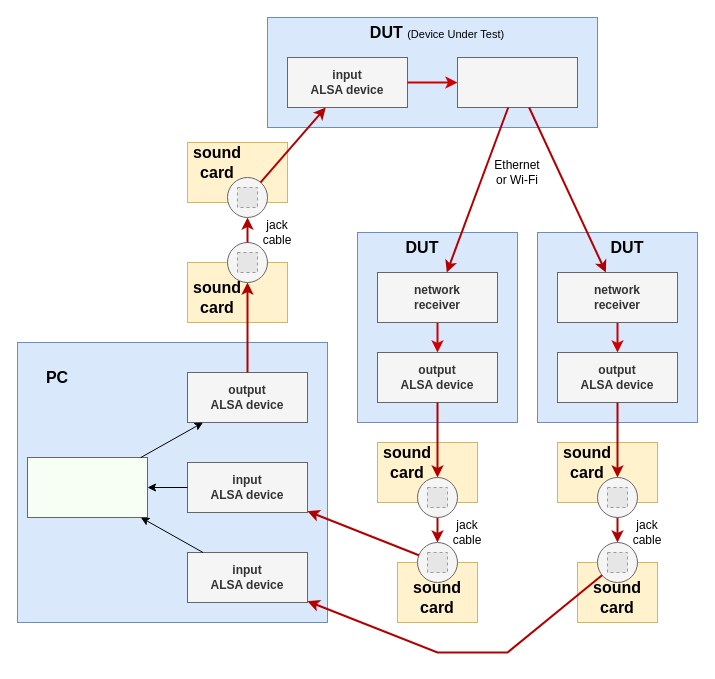
This 715x679 diagram has some shape labels left out. Grey dashed boxes stand in for pictures. Here are the shapes that lost their labels. From the top down, the box of each, then its label:
(456, 56, 578, 108): network sender
(26, 456, 148, 518): signal-estimator
